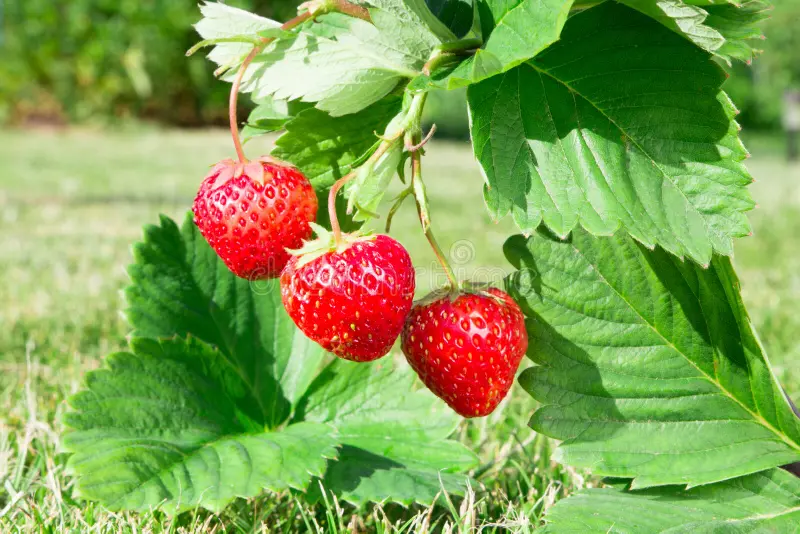peduncle: (411, 133, 458, 290), (229, 37, 274, 163)
strawberry: (281, 225, 414, 361), (402, 288, 527, 417), (193, 157, 317, 279)
